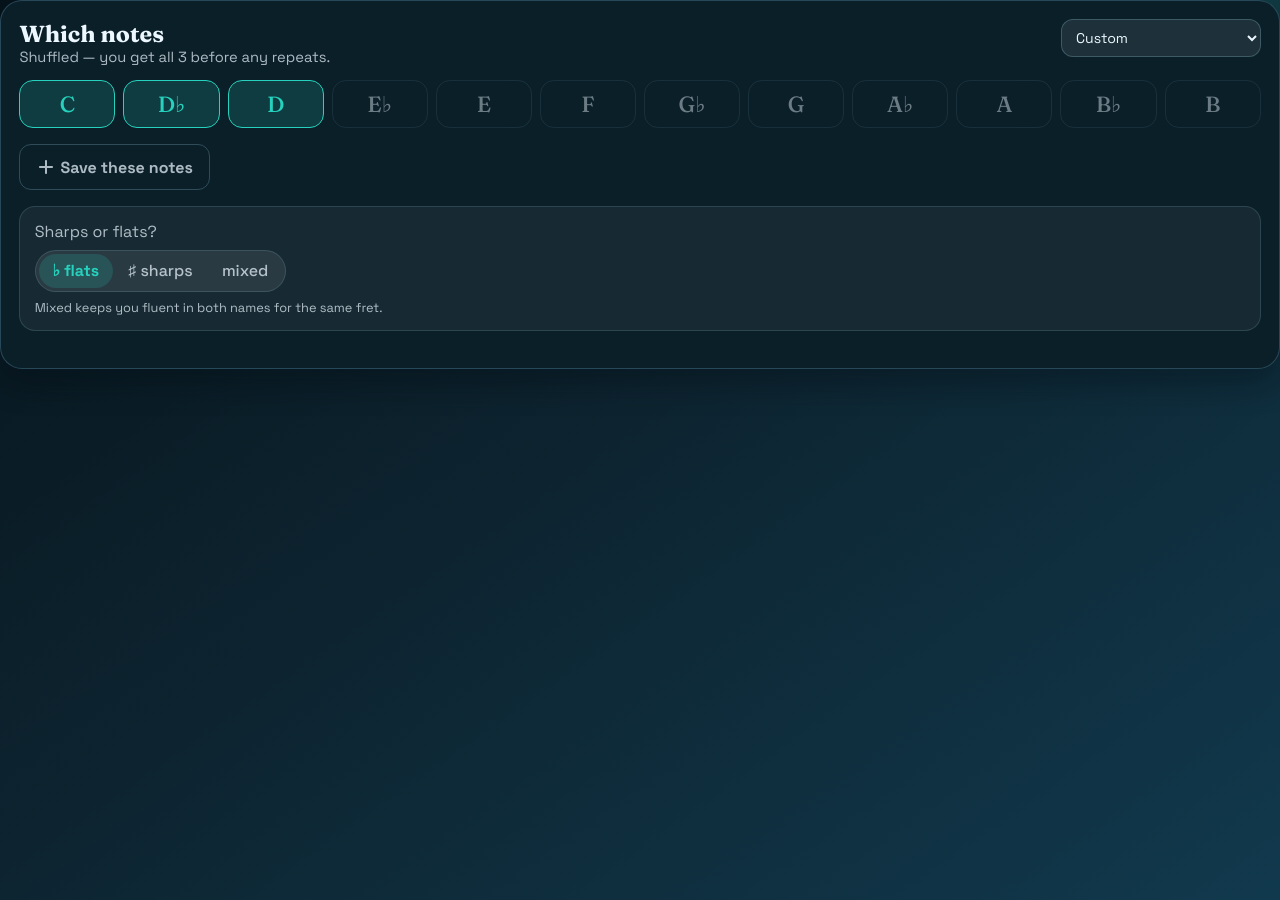
Test case: NotePoolCard saved presets › deletes the selected saved preset and leaves the notes alone
Click the button with test id "preset-save". click: (115, 167)
box: [19,144,210,190]
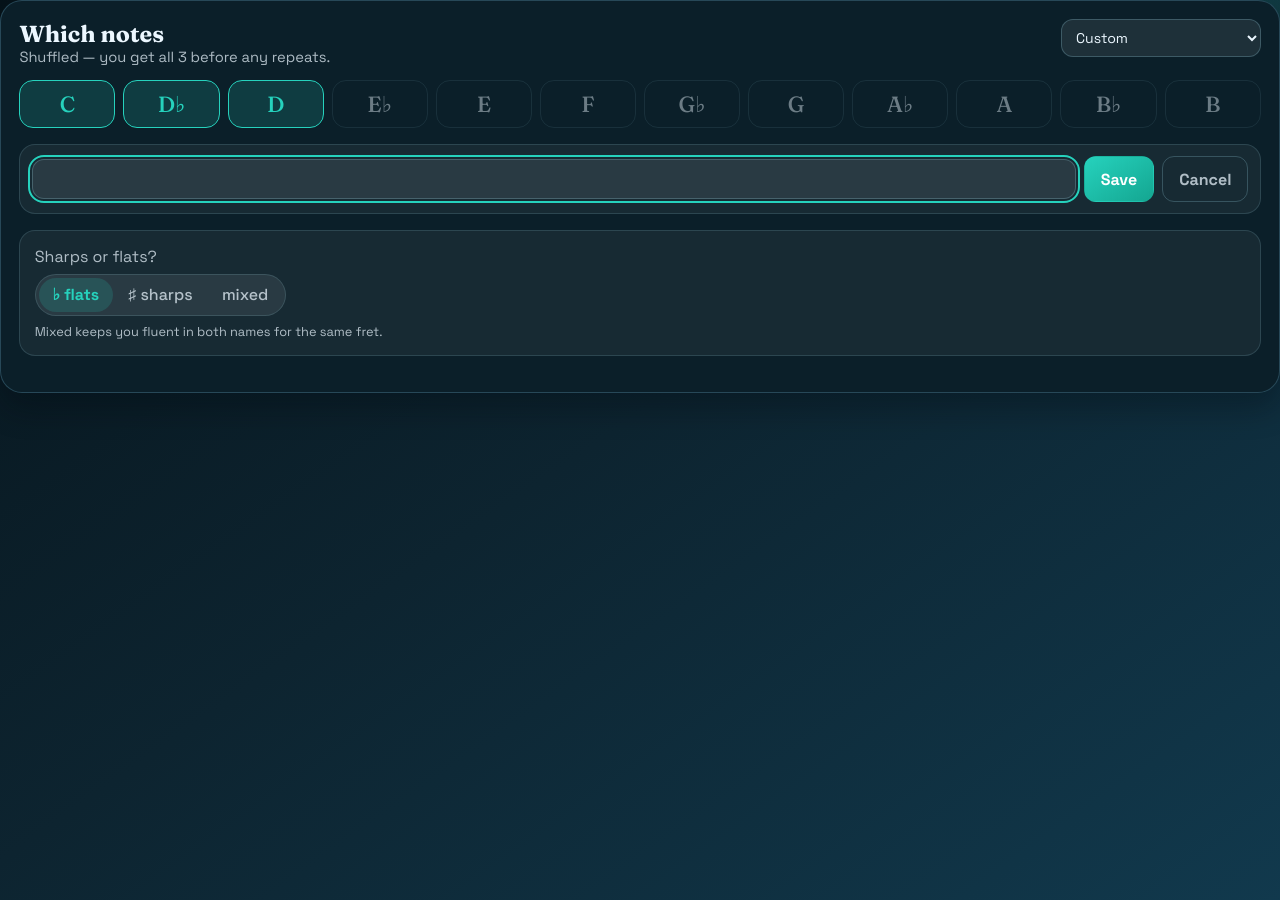
Type "Two-string drill" into the field named "Preset name". click: (554, 179)
box: [32,159,1076,200]
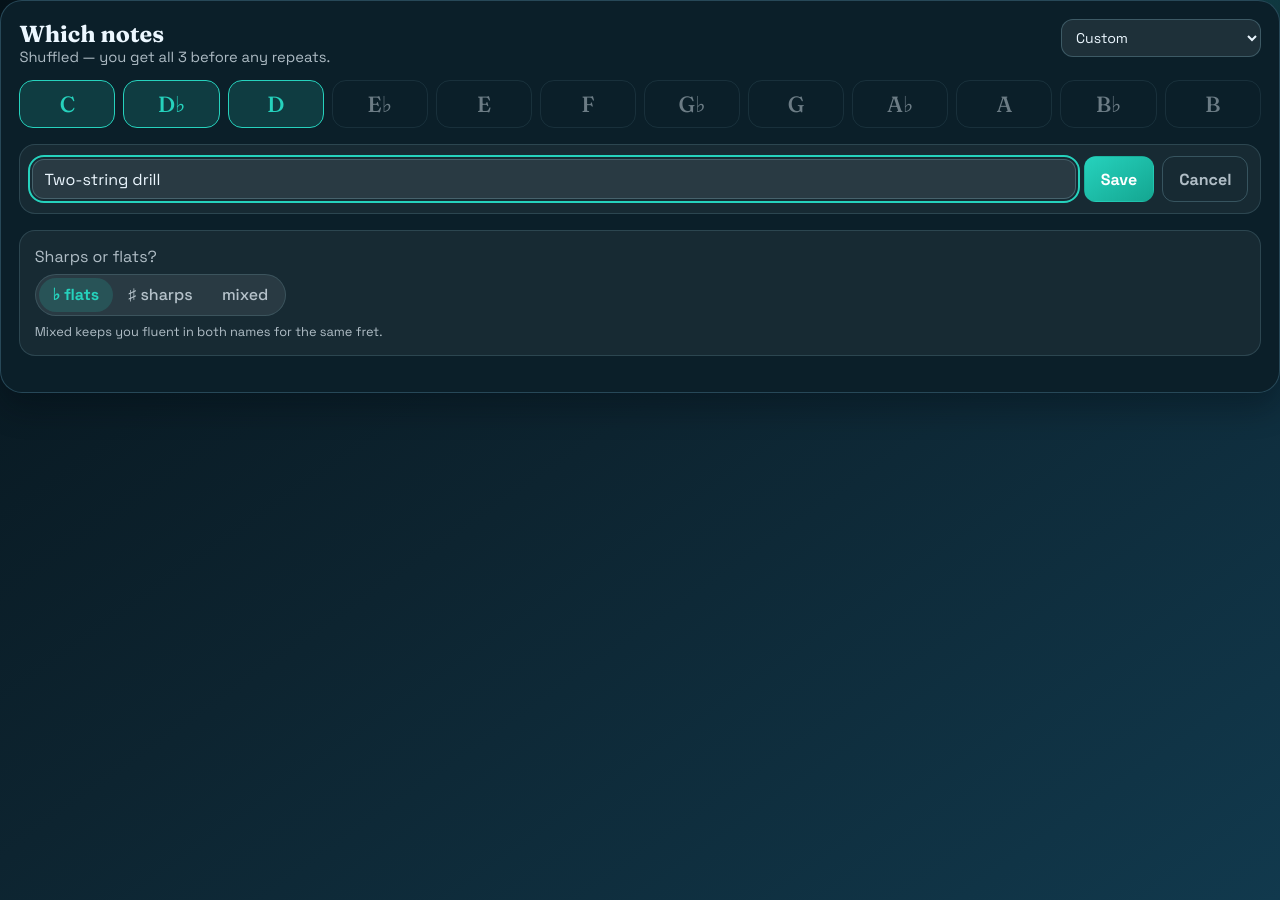
Submit the form with test id "preset-save-form", box [19,144,1261,214]
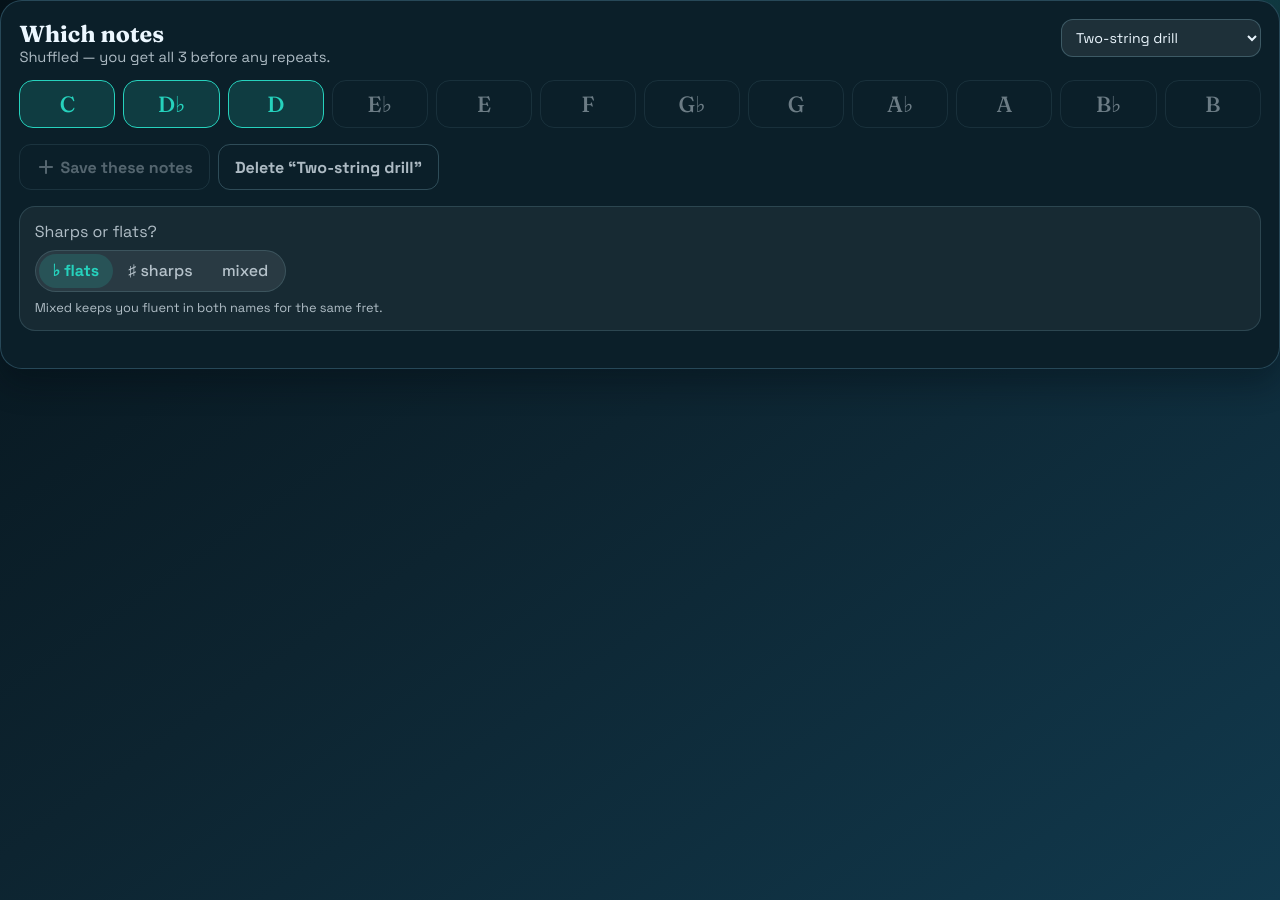
Click the button "Delete “Two-string drill”". click: (328, 167)
box: [218,144,439,190]
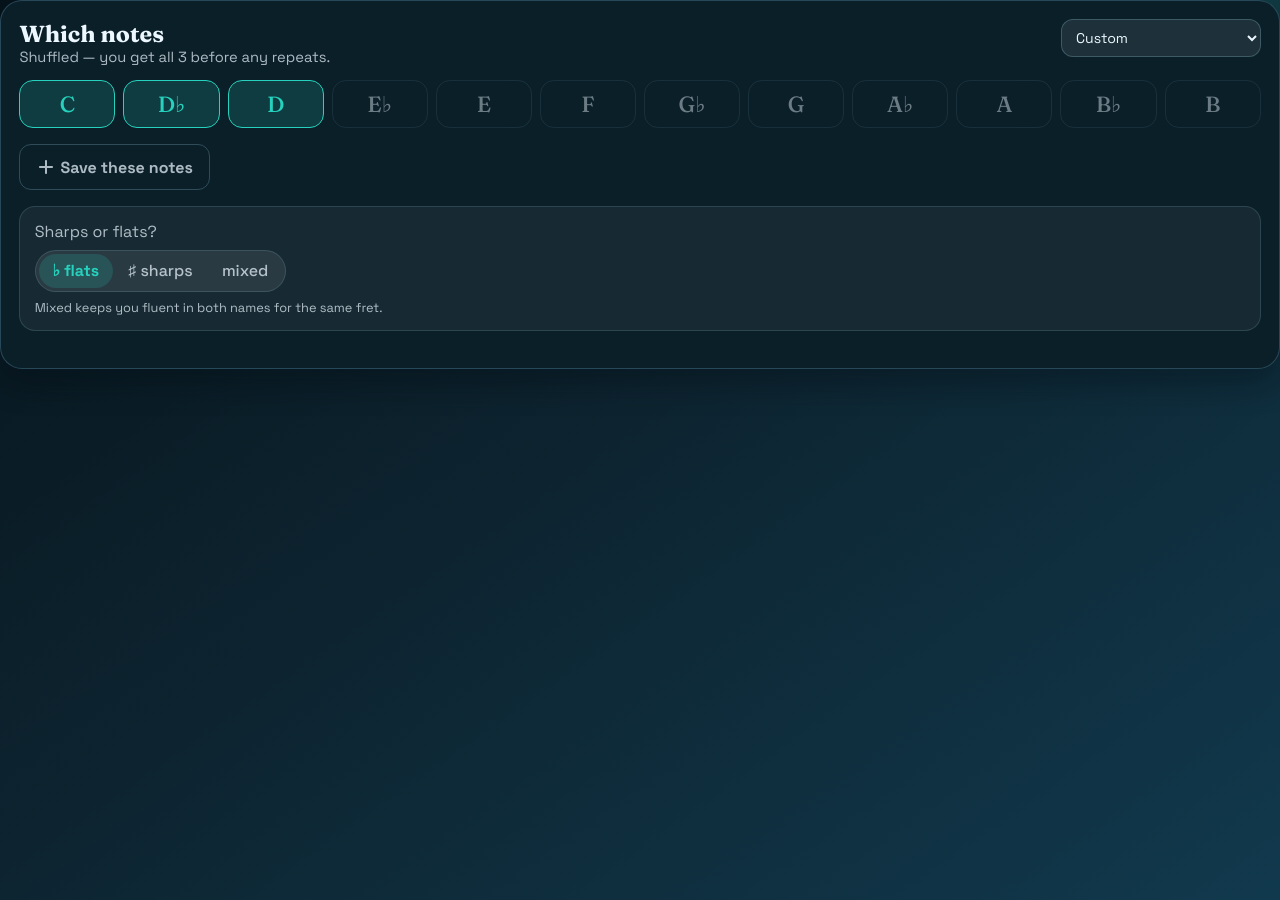
Expected: the dropdown with test id "preset-select" shows "Custom", [1061,19,1261,57]
